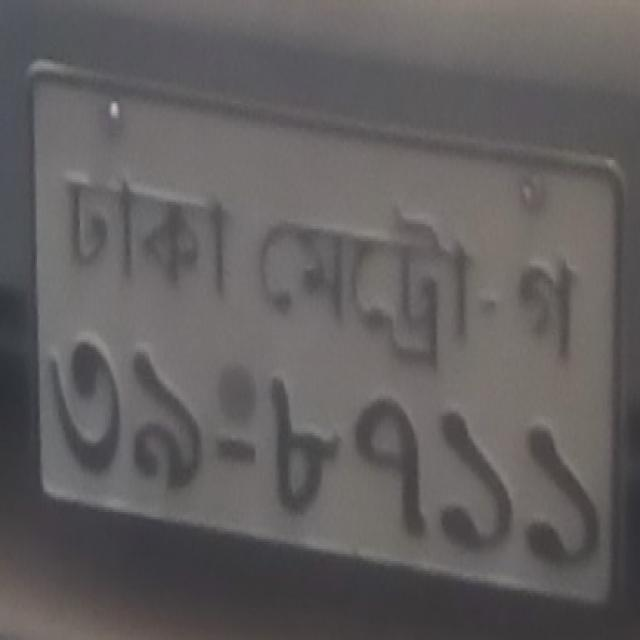numberplate: (25, 56, 628, 613)
